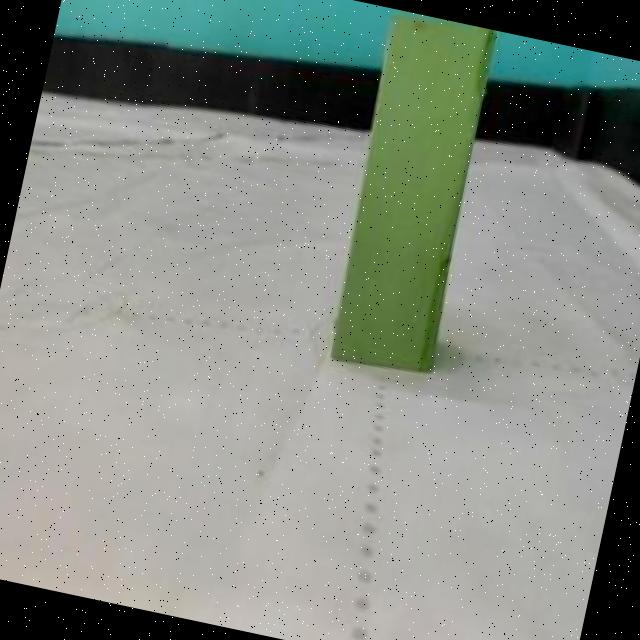greenbox: (317, 8, 504, 382)
